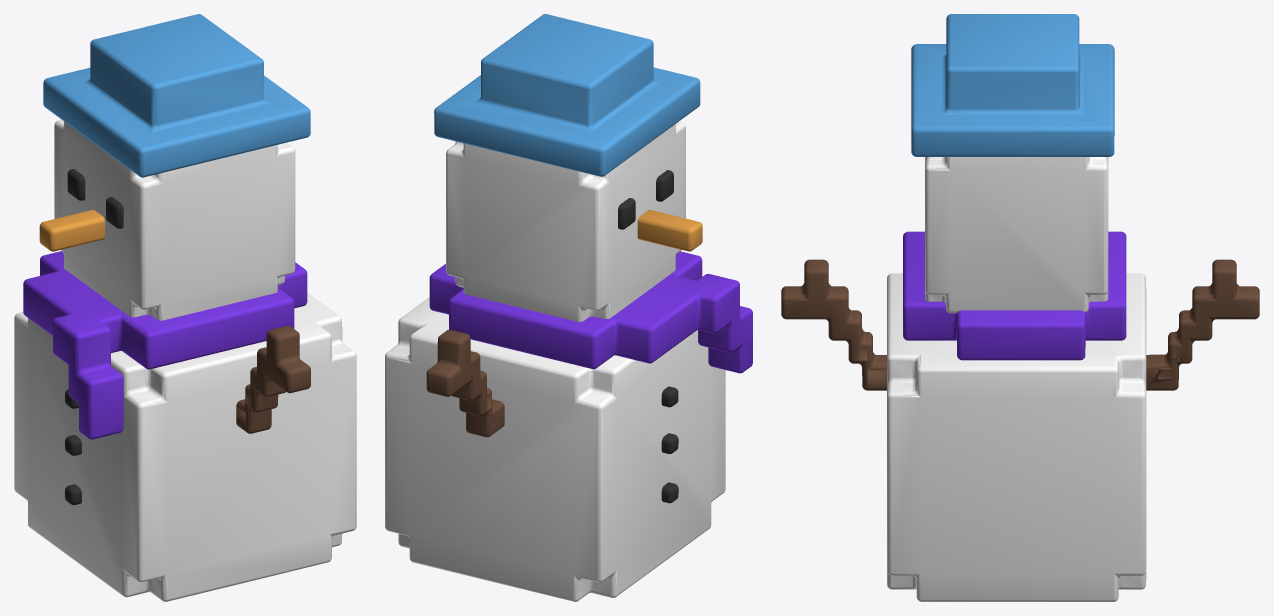
3 renders of one model, left to right at view 1: azimuth 30°, elevation 25°; view 2: azimuth 150°, elevation 25°; view 3: azimuth 270°, elevation 25°, orthographic. The views are drawn at different scales.
Parts seen in each view (by area): view 1: BipJamExport_snowman; view 2: BipJamExport_snowman; view 3: BipJamExport_snowman.
Boxes of the visible parts, x1,y1,x2,y2 form: BipJamExport_snowman: (14,14,356,601); BipJamExport_snowman: (385,14,752,601); BipJamExport_snowman: (781,14,1259,601).
Size of the model in its own units: 0.6759 by 1.23 by 1.06.
